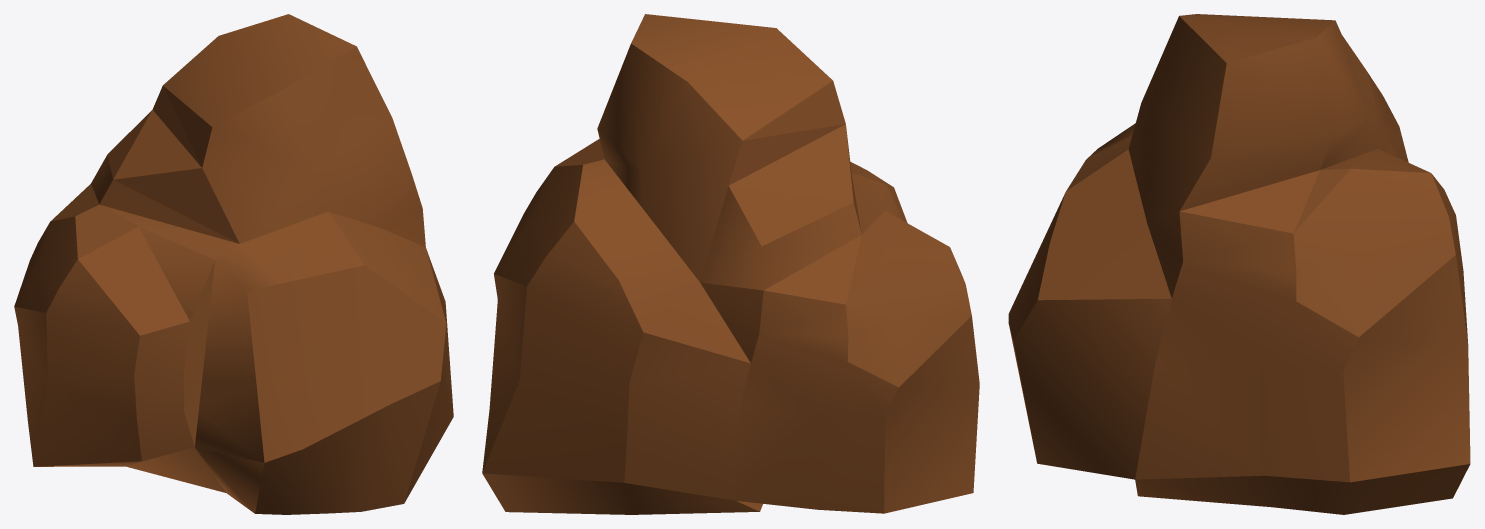
File: Rock_2_Cube.obj
3 views of the same model, side by side, from view 1: azimuth 30°, elevation 25°; view 2: azimuth 150°, elevation 25°; view 3: azimuth 270°, elevation 25° (orthographic). The views are drawn at different scales.
Visible parts, largest first — view 1: Rock_2_Cube.023; view 2: Rock_2_Cube.023; view 3: Rock_2_Cube.023.
Boxes of the visible parts, box(x1,y1,x2,y2) form: Rock_2_Cube.023: box(14, 14, 453, 514); Rock_2_Cube.023: box(482, 14, 979, 514); Rock_2_Cube.023: box(1008, 14, 1470, 514).
Bounding box in the file's own units: 2.74 × 2.71 × 2.52.
